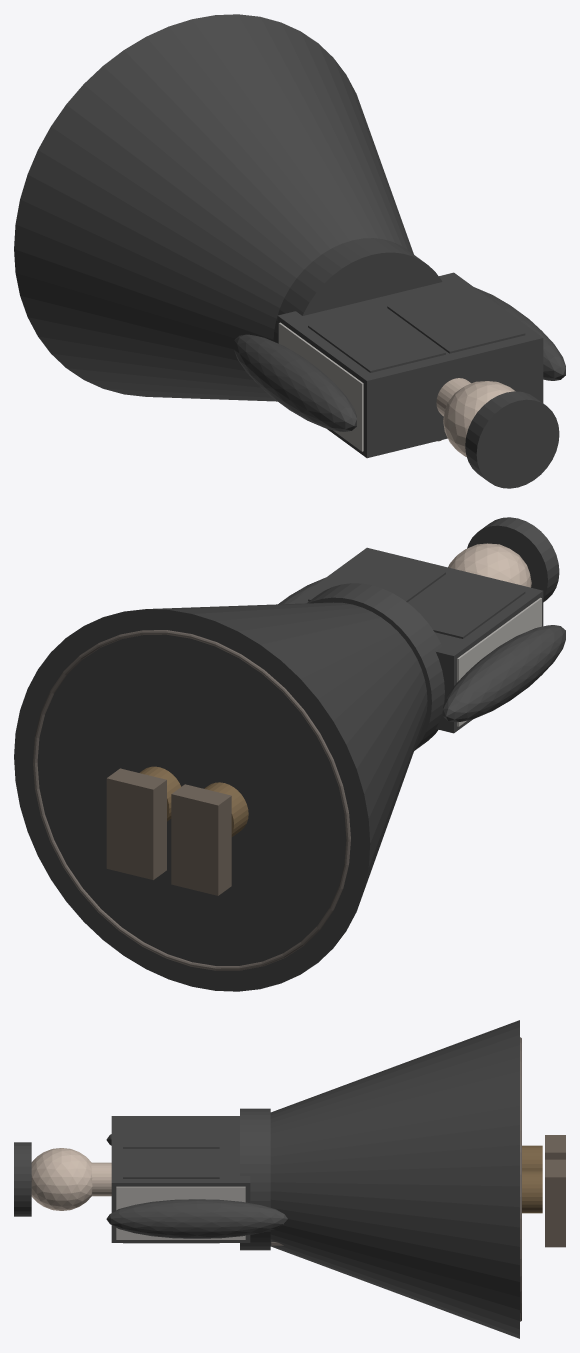
The model's file is MASTER_034_STAGE3_DETAIL.glb.
The picture shows the model from 3 angles, top to bottom: view 1: azimuth 30°, elevation 25°; view 2: azimuth 150°, elevation 25°; view 3: azimuth 270°, elevation 25°; orthographic projection. The views are drawn at different scales.
Visible parts, largest first — view 1: slot_lower_main__fund_i_gjatë, slot_upper_inner__këmishë, slot_waist__brez, slot_headwear__mbulesë_koke, slot_upper_inner_sleeve_L, slot_upper_outer__jelek/xhamadan_R, slot_upper_outer__jelek/xhamadan_L, mannequin_torso, mannequin_head, slot_upper_inner_sleeve_R; view 2: slot_lower_main__fund_i_gjatë, slot_footwear__opinga_R, slot_footwear__opinga_L, slot_upper_inner_sleeve_L, detail_skirt_hem, slot_waist__brez, slot_upper_inner__këmishë, slot_upper_outer__jelek/xhamadan_L, slot_headwear__mbulesë_koke, slot_upper_outer__jelek/xhamadan_R, mannequin_head, mannequin_torso (+2 smaller); view 3: slot_lower_main__fund_i_gjatë, slot_upper_inner_sleeve_R, slot_upper_inner__këmishë, mannequin_head, slot_waist__brez, slot_upper_outer__jelek/xhamadan_R, slot_upper_outer__jelek/xhamadan_L, mannequin_torso, slot_footwear__opinga_R, slot_headwear__mbulesë_koke, slot_legwear__çorape_R, mannequin_neck (+3 smaller).
Part boxes in pixels (x1=…): slot_lower_main__fund_i_gjatë: x1=14, y1=14, x2=413, y2=401; slot_upper_inner__këmishë: x1=277, y1=272, x2=543, y2=458; slot_waist__brez: x1=273, y1=238, x2=442, y2=342; slot_headwear__mbulesë_koke: x1=465, y1=391, x2=559, y2=488; slot_upper_inner_sleeve_L: x1=234, y1=334, x2=356, y2=431; slot_upper_outer__jelek/xhamadan_R: x1=387, y1=288, x2=525, y2=353; slot_upper_outer__jelek/xhamadan_L: x1=308, y1=307, x2=445, y2=372; mannequin_torso: x1=278, y1=322, x2=363, y2=451; mannequin_head: x1=443, y1=381, x2=515, y2=456; slot_upper_inner_sleeve_R: x1=474, y1=287, x2=565, y2=380; slot_lower_main__fund_i_gjatë: x1=14, y1=602, x2=427, y2=991; slot_footwear__opinga_R: x1=106, y1=768, x2=166, y2=879; slot_footwear__opinga_L: x1=171, y1=784, x2=231, y2=895; slot_upper_inner_sleeve_L: x1=443, y1=625, x2=565, y2=722; detail_skirt_hem: x1=33, y1=630, x2=350, y2=970; slot_waist__brez: x1=307, y1=583, x2=444, y2=750; slot_upper_inner__këmishë: x1=290, y1=547, x2=543, y2=733; slot_upper_outer__jelek/xhamadan_L: x1=408, y1=573, x2=525, y2=638; slot_headwear__mbulesë_koke: x1=467, y1=517, x2=559, y2=602; slot_upper_outer__jelek/xhamadan_R: x1=308, y1=554, x2=445, y2=602; mannequin_head: x1=448, y1=543, x2=531, y2=587; mannequin_torso: x1=457, y1=597, x2=541, y2=726; slot_lower_main__fund_i_gjatë: x1=270, y1=1020, x2=519, y2=1338; slot_upper_inner_sleeve_R: x1=106, y1=1199, x2=287, y2=1238; slot_upper_inner__këmishë: x1=111, y1=1116, x2=250, y2=1242; mannequin_head: x1=31, y1=1148, x2=92, y2=1210; slot_waist__brez: x1=240, y1=1108, x2=270, y2=1250; slot_upper_outer__jelek/xhamadan_R: x1=123, y1=1148, x2=219, y2=1243; slot_upper_outer__jelek/xhamadan_L: x1=123, y1=1118, x2=219, y2=1148; mannequin_torso: x1=116, y1=1186, x2=245, y2=1239; slot_footwear__opinga_R: x1=545, y1=1159, x2=565, y2=1247; slot_headwear__mbulesë_koke: x1=14, y1=1142, x2=31, y2=1216; slot_legwear__çorape_R: x1=522, y1=1170, x2=542, y2=1213; mannequin_neck: x1=91, y1=1162, x2=111, y2=1196.
Size of the model in its own units: 0.9891 by 0.9891 by 1.71.
